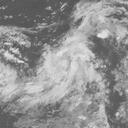cyclone: (40, 40, 98, 99)
